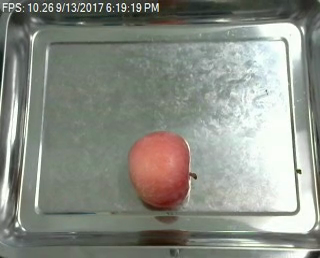Apple: (126, 129, 192, 211)
